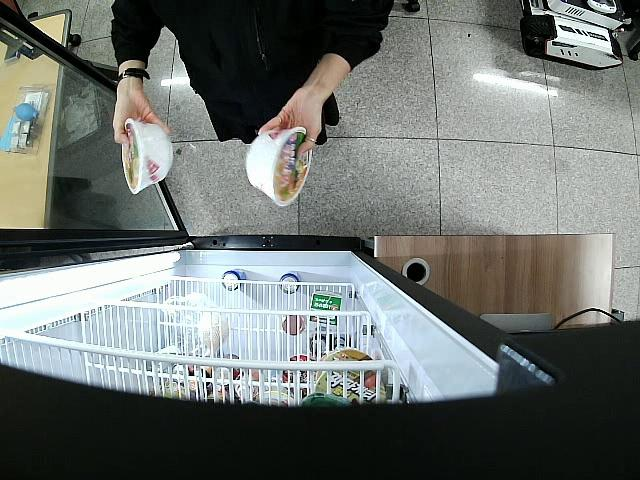00_hand: (258, 95, 323, 159), (111, 96, 171, 144)
09_yukGaeJang: (245, 127, 313, 207), (122, 119, 173, 195)
